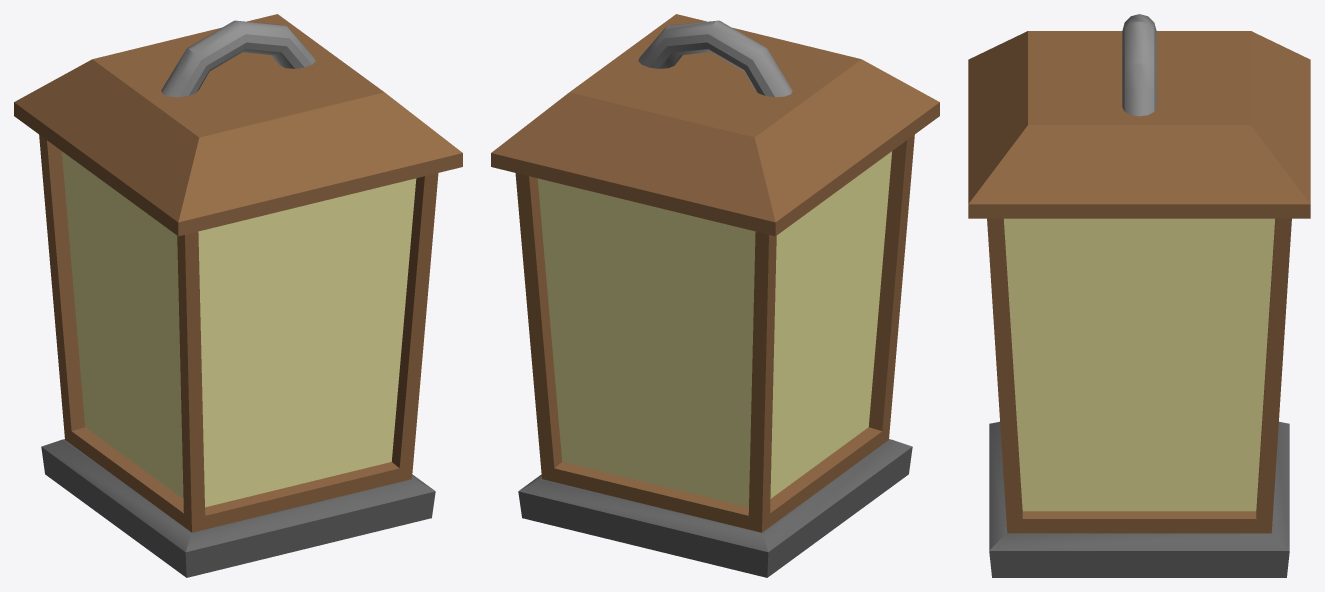
The model's file is lantern.glb.
The picture shows the model from 3 angles, left to right: view 1: azimuth 30°, elevation 25°; view 2: azimuth 150°, elevation 25°; view 3: azimuth 270°, elevation 25°; orthographic projection. The views are drawn at different scales.
Parts seen in each view (by area): view 1: lantern; view 2: lantern; view 3: lantern.
Boxes of the visible parts, <box> form: lantern: <box>14,14,462,577</box>; lantern: <box>491,14,939,577</box>; lantern: <box>968,14,1310,577</box>.
Bounding box in the file's own units: 0.3028 × 0.4826 × 0.3028.
Materials: 1 (1 with a texture image).
